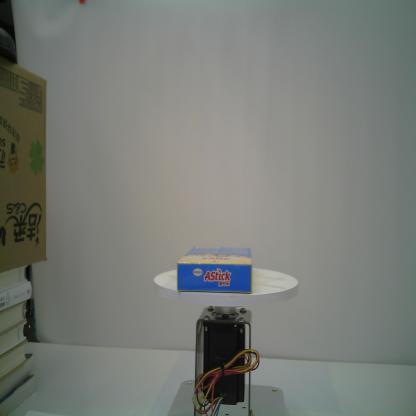Dessert: (177, 247, 252, 293)
